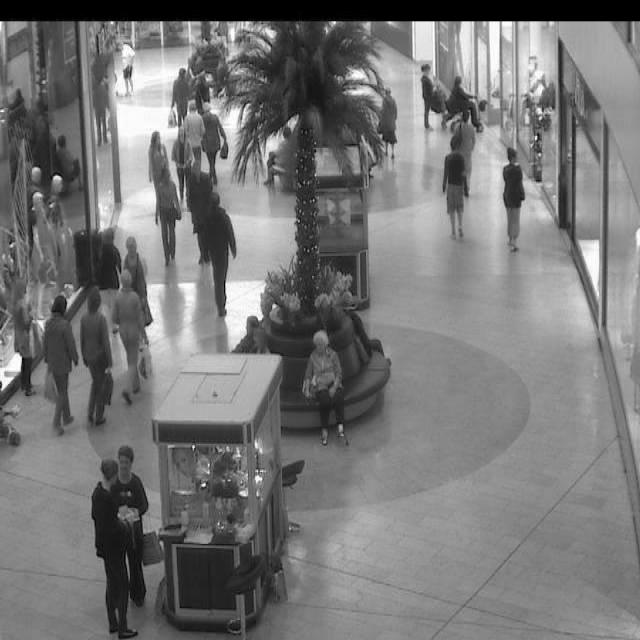person: (93, 444, 151, 640), (120, 445, 158, 595), (110, 277, 152, 399), (77, 294, 114, 429), (41, 298, 78, 433), (301, 332, 344, 448), (8, 268, 42, 412), (198, 200, 238, 320), (150, 159, 182, 265), (442, 137, 472, 239), (119, 239, 154, 325), (500, 153, 527, 250), (200, 109, 228, 178), (172, 128, 196, 199), (231, 314, 270, 354), (380, 89, 401, 159), (447, 75, 472, 125), (144, 122, 164, 182), (418, 66, 437, 126), (166, 60, 186, 112), (180, 94, 203, 134), (120, 39, 136, 93), (188, 46, 206, 94)
